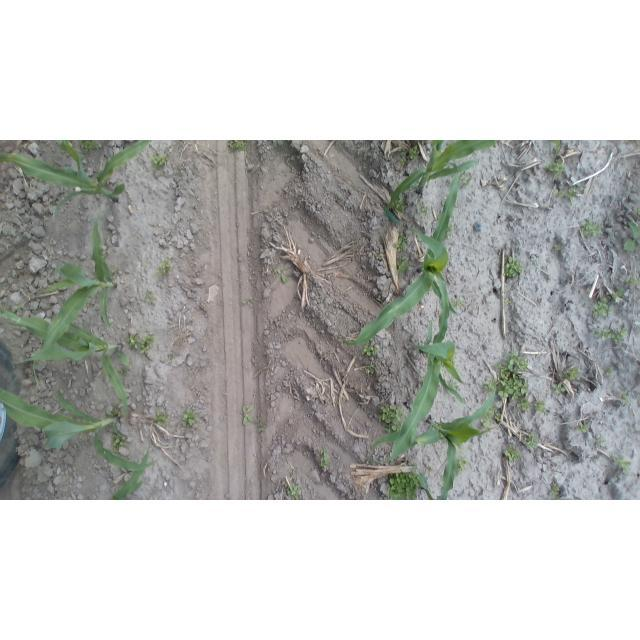Maize: (342, 162, 461, 349), (380, 269, 468, 467), (362, 374, 498, 500), (1, 309, 132, 409), (1, 383, 155, 468), (30, 211, 118, 358), (1, 141, 152, 216), (384, 140, 497, 230), (103, 435, 153, 500), (550, 141, 563, 162)
Weeds: (496, 352, 530, 403), (387, 470, 422, 500), (377, 404, 403, 428), (126, 333, 154, 355), (623, 221, 639, 254), (591, 326, 623, 342), (503, 256, 524, 279), (591, 298, 613, 319), (544, 160, 566, 179), (580, 219, 602, 238), (284, 481, 304, 500), (613, 455, 631, 476), (241, 402, 256, 426), (502, 443, 522, 461), (181, 408, 199, 427), (107, 399, 125, 418), (149, 153, 167, 171), (110, 433, 126, 452), (524, 431, 540, 450), (77, 140, 100, 153), (318, 448, 331, 470), (362, 342, 378, 359), (155, 410, 171, 427), (457, 456, 472, 474), (158, 259, 173, 277), (417, 203, 432, 221), (395, 233, 409, 252), (566, 365, 581, 382), (395, 256, 409, 274), (227, 141, 249, 152), (534, 401, 549, 416), (614, 327, 628, 343), (460, 172, 473, 189), (277, 266, 289, 284), (618, 389, 630, 407), (551, 381, 566, 395), (489, 409, 503, 423), (548, 482, 560, 498), (517, 399, 531, 412), (142, 289, 155, 303), (611, 288, 626, 300), (409, 145, 419, 162), (567, 186, 578, 201), (483, 379, 496, 391), (604, 366, 617, 378), (482, 414, 493, 428), (626, 276, 638, 288), (451, 298, 463, 309), (395, 198, 405, 211), (365, 363, 375, 376), (595, 435, 606, 446), (579, 422, 590, 433), (449, 380, 459, 392), (529, 256, 539, 267), (555, 189, 565, 200), (446, 225, 454, 238), (118, 367, 129, 376), (257, 422, 265, 433), (242, 298, 253, 306), (399, 156, 407, 166), (375, 252, 383, 261), (553, 244, 561, 253), (505, 298, 513, 306), (111, 269, 120, 276), (634, 206, 640, 216), (426, 467, 434, 474), (167, 354, 174, 362), (268, 211, 274, 218), (271, 140, 277, 144)
